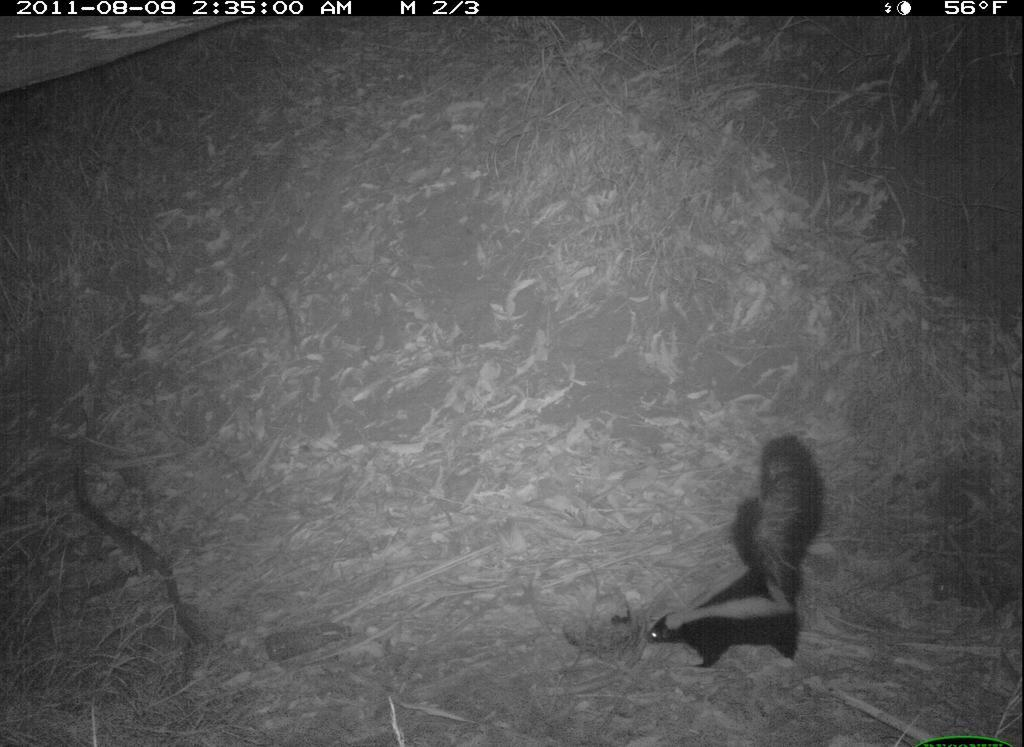skunk: (646, 434, 835, 678)
